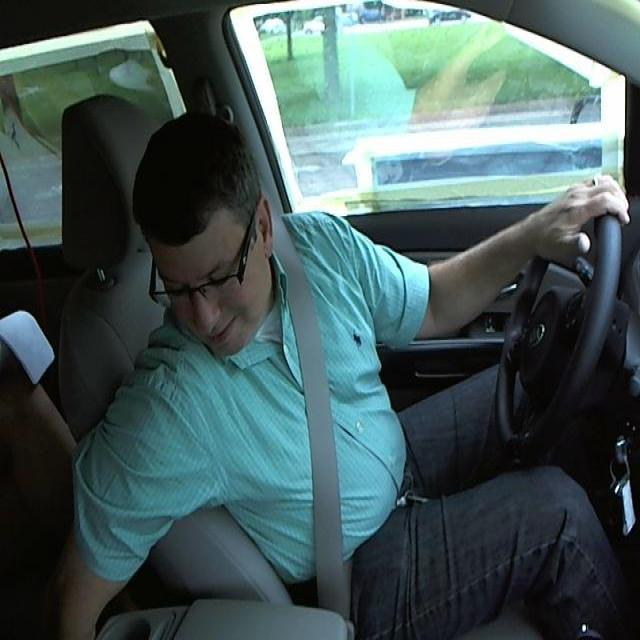seatbelt: (271, 228, 373, 615)
